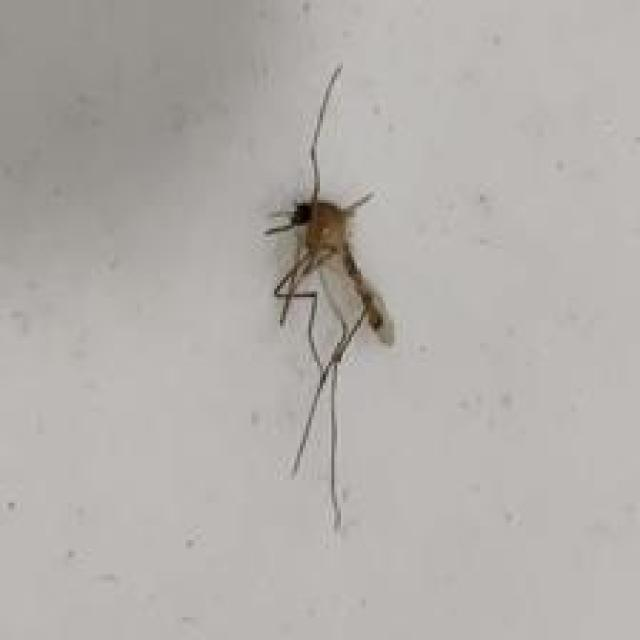Culex: (263, 61, 397, 530)
